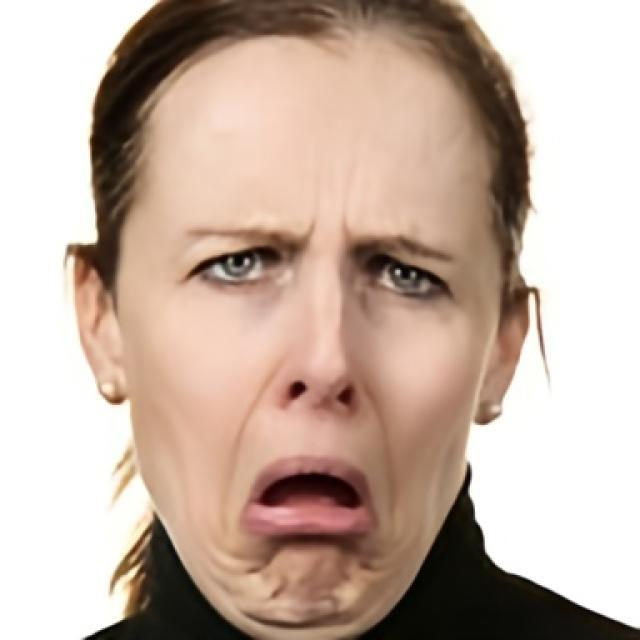disgust: (115, 21, 501, 624)
